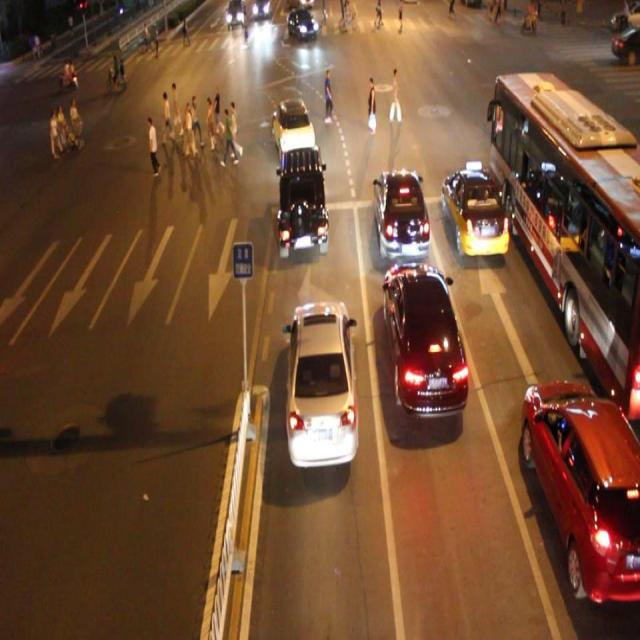car: (518, 378, 640, 600), (382, 260, 468, 417), (287, 300, 356, 464), (441, 170, 508, 260), (372, 167, 429, 264), (278, 144, 327, 253), (272, 98, 314, 158), (286, 8, 317, 43)
van: (491, 71, 640, 418)
